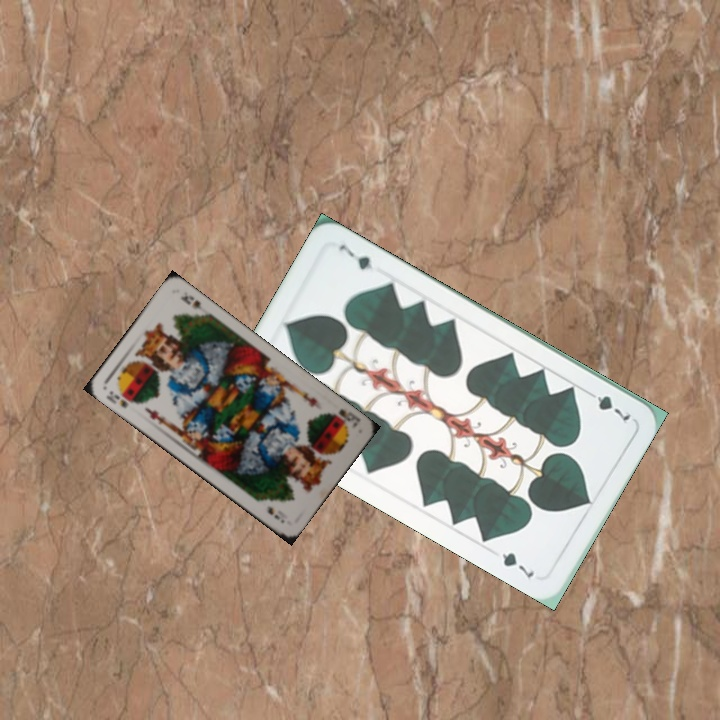G7: (581, 386, 634, 424)
SK: (334, 405, 363, 431), (102, 386, 131, 411)
